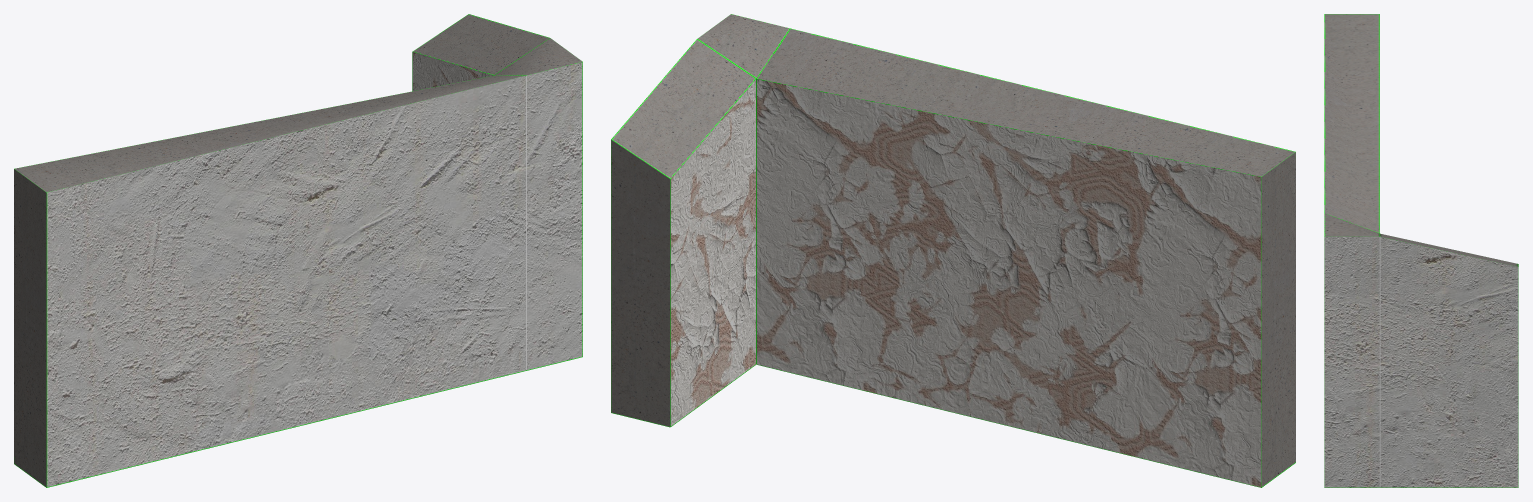
Rendered from House4RuinsElbow.fbx.
3 renders of one model, left to right at view 1: azimuth 30°, elevation 25°; view 2: azimuth 150°, elevation 25°; view 3: azimuth 270°, elevation 25°, orthographic. The views are drawn at different scales.
Visible parts, largest first — view 1: House4RuinsElbow; view 2: House4RuinsElbow; view 3: House4RuinsElbow.
Boxes of the visible parts, left/top/right/bottom form: House4RuinsElbow: left=14, top=14, right=582, bottom=487; House4RuinsElbow: left=611, top=14, right=1295, bottom=487; House4RuinsElbow: left=1324, top=14, right=1518, bottom=487.
Bounding box in the file's own units: 4.75 × 2.5 × 1.75.
Materials: 1 (1 with a texture image).
